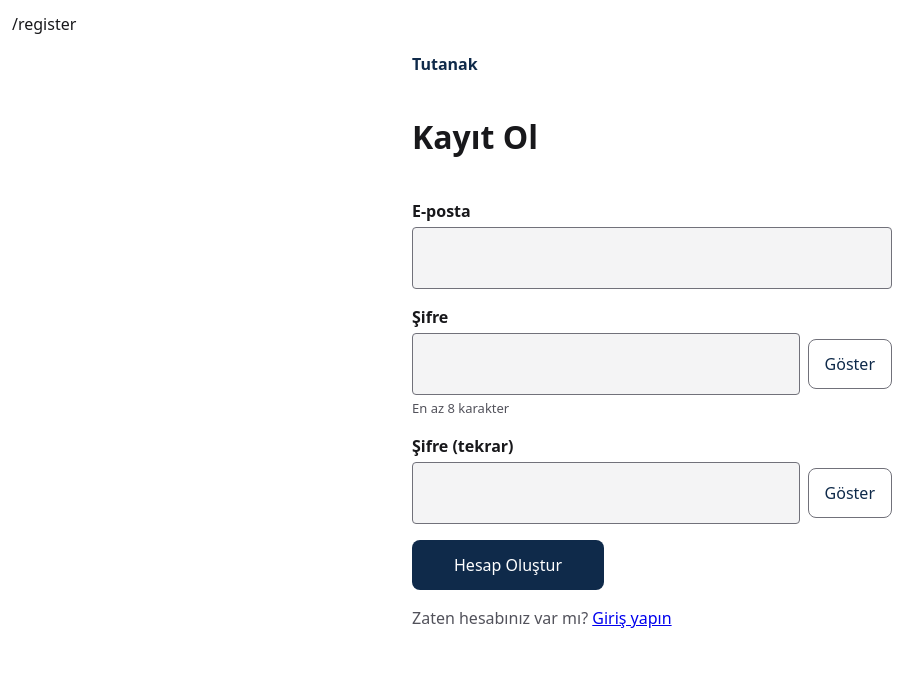
Test case: RegisterPage › render (kriter 6, 9) › yardimci metin hata gosterildikten sonra da gorunur kalir
The image size is (913, 673).
Type "selin@ornek.com" into the field labelled "E-posta".
click(652, 258); type("selin@ornek.com")  # box [412,227,892,289]
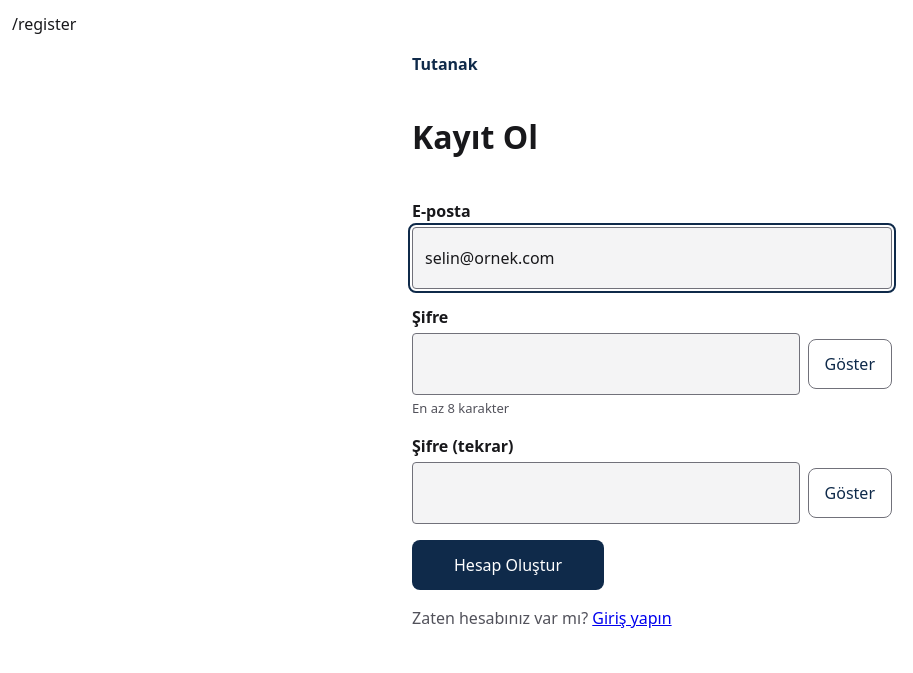
Type "cok-gizli-8" into the password field labelled "Şifre".
click(606, 364); type("cok-gizli-8")  # box [412,333,800,395]
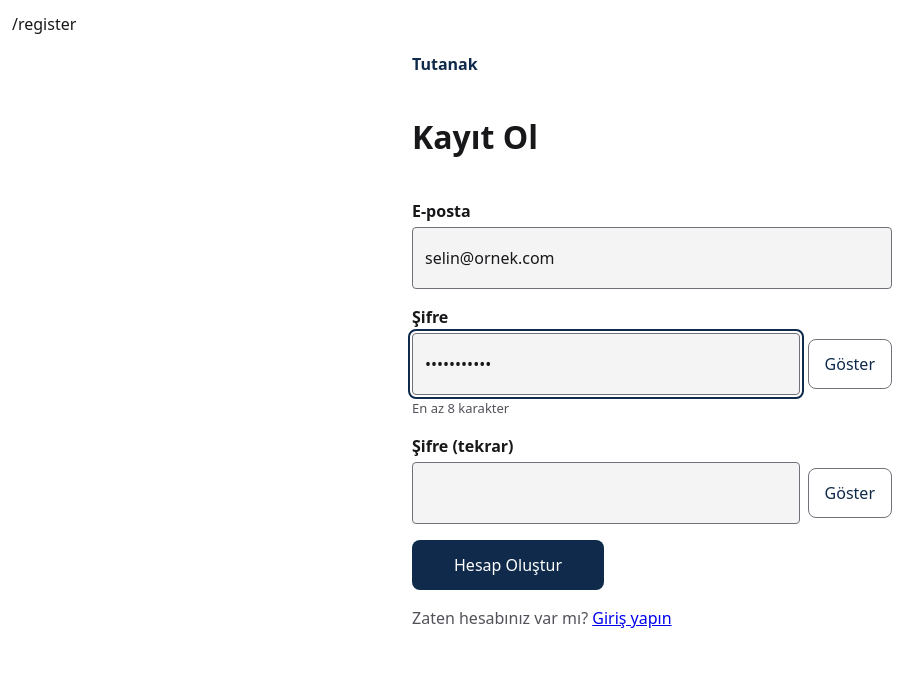
Type "cok-gizli-8" into the password field labelled "Şifre (tekrar)".
click(606, 493); type("cok-gizli-8")  # box [412,462,800,524]
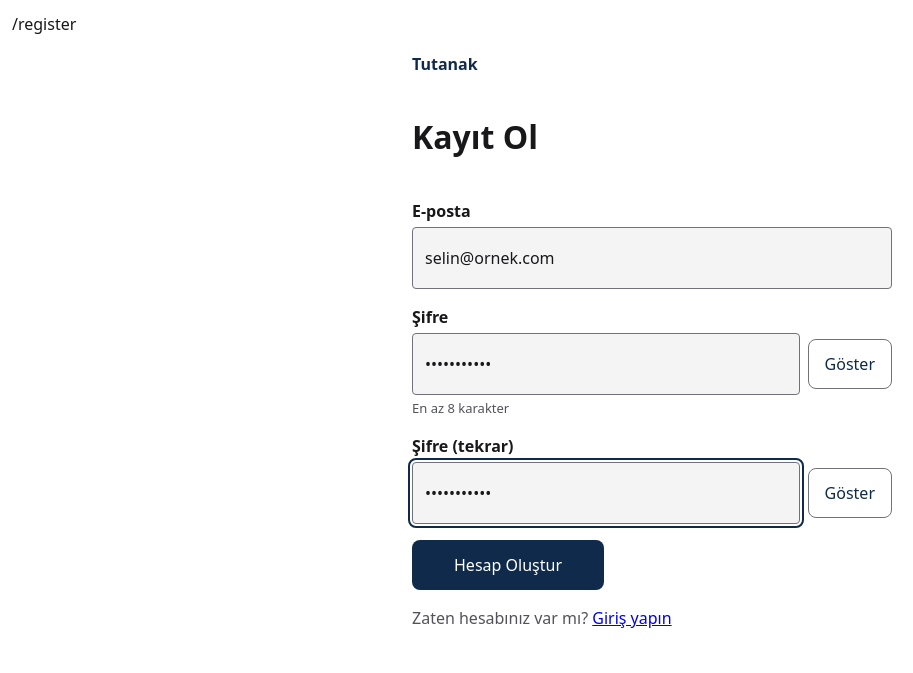
Click the button "Hesap Oluştur".
click(508, 565)  # box [412,540,604,590]
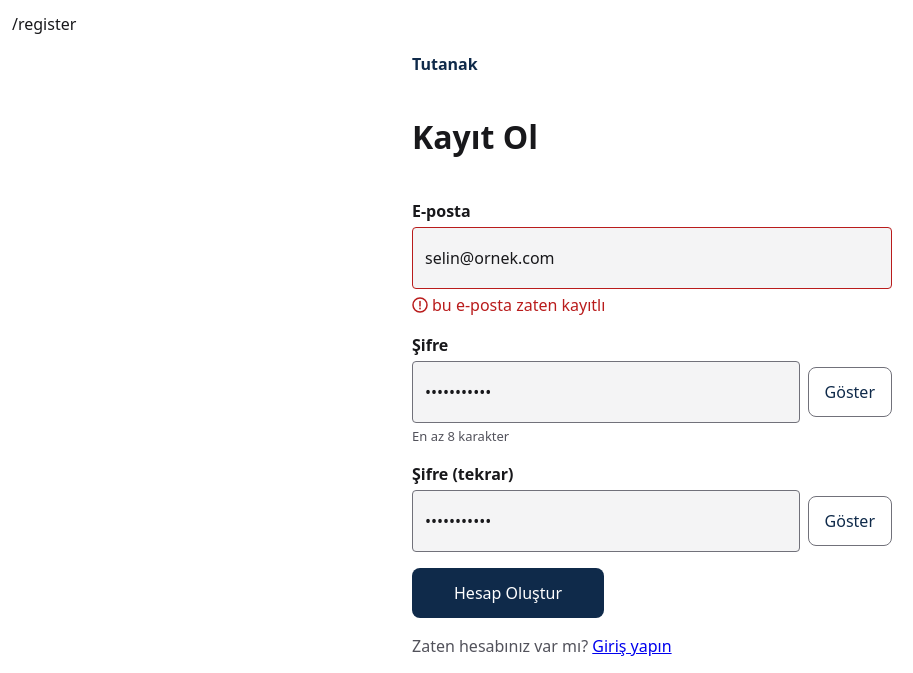
expect the text "En az 8 karakter" is shown: met, box [412,427,509,445]
expect the text "bu e-posta zaten kayıtlı" is shown: met, box [412,294,605,316]
